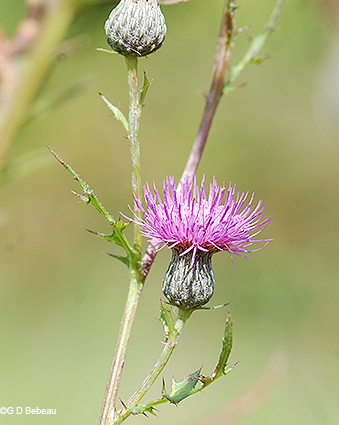thistle: (127, 176, 277, 315)
